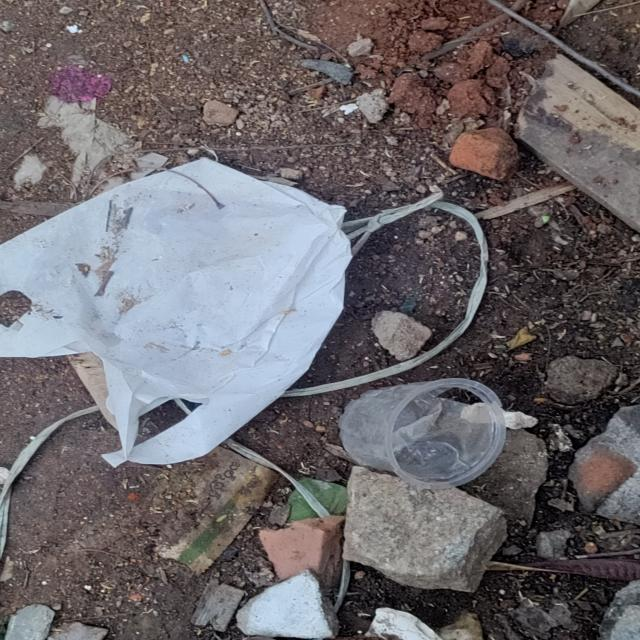dry: (2, 156, 360, 466), (345, 392, 530, 478)
